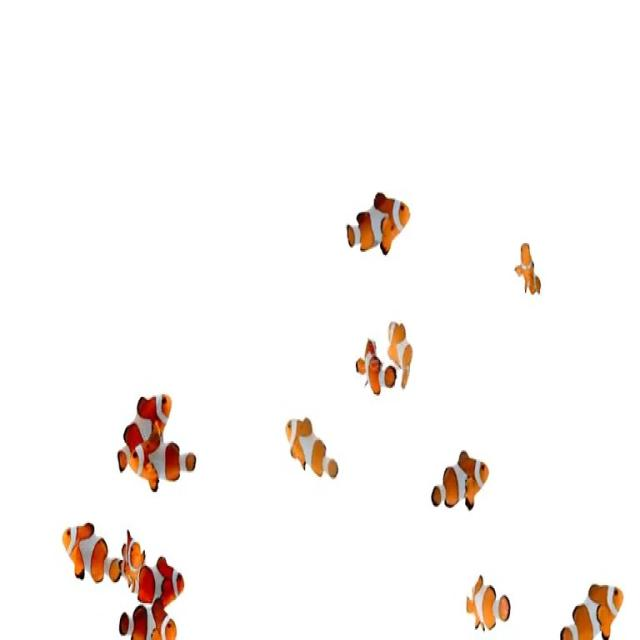fish: (110, 375, 176, 476), (343, 176, 412, 270), (130, 423, 204, 499), (61, 504, 128, 587), (284, 406, 345, 492), (431, 440, 492, 526), (556, 568, 627, 638), (132, 554, 196, 608), (459, 570, 511, 633), (117, 598, 185, 640), (355, 334, 396, 403), (386, 314, 417, 388), (514, 234, 545, 305), (116, 521, 144, 597)
